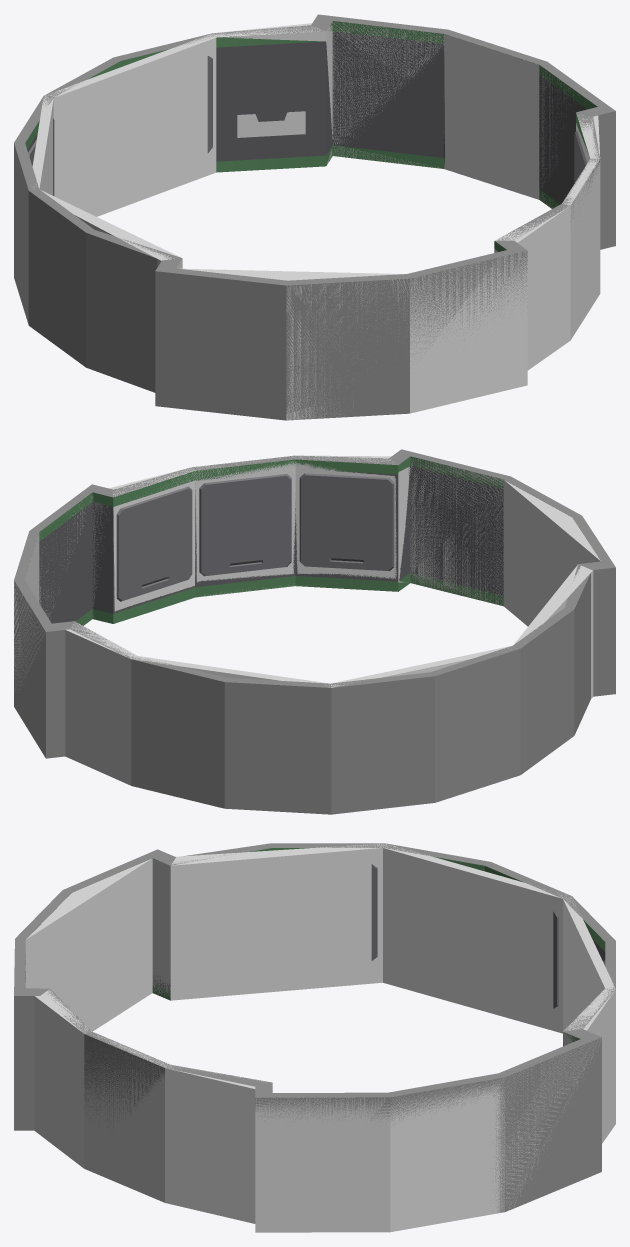
File: SM_Bld_Hydroponics_UpperFloor_01.fbx
The picture shows the model from 3 angles, top to bottom: view 1: azimuth 30°, elevation 25°; view 2: azimuth 150°, elevation 25°; view 3: azimuth 270°, elevation 25°; orthographic projection. The views are drawn at different scales.
Visible parts, largest first — view 1: SM_Bld_Hydroponics_UpperFloor_01_LOD0, SM_Bld_Hydroponics_UpperFloor_01_ConvexHulls; view 2: SM_Bld_Hydroponics_UpperFloor_01_LOD0, SM_Bld_Hydroponics_UpperFloor_01_ConvexHulls; view 3: SM_Bld_Hydroponics_UpperFloor_01_ConvexHulls, SM_Bld_Hydroponics_UpperFloor_01_LOD0.
Part boxes in pixels (x1,y1,x2,y2): SM_Bld_Hydroponics_UpperFloor_01_LOD0: [14, 14, 615, 420]; SM_Bld_Hydroponics_UpperFloor_01_ConvexHulls: [32, 21, 600, 420]; SM_Bld_Hydroponics_UpperFloor_01_LOD0: [14, 449, 615, 814]; SM_Bld_Hydroponics_UpperFloor_01_ConvexHulls: [14, 455, 600, 785]; SM_Bld_Hydroponics_UpperFloor_01_ConvexHulls: [25, 843, 615, 1232]; SM_Bld_Hydroponics_UpperFloor_01_LOD0: [14, 843, 615, 1212].
Bounding box in the file's own units: 1615 × 1615 × 400.
1 material, 1 textured.
